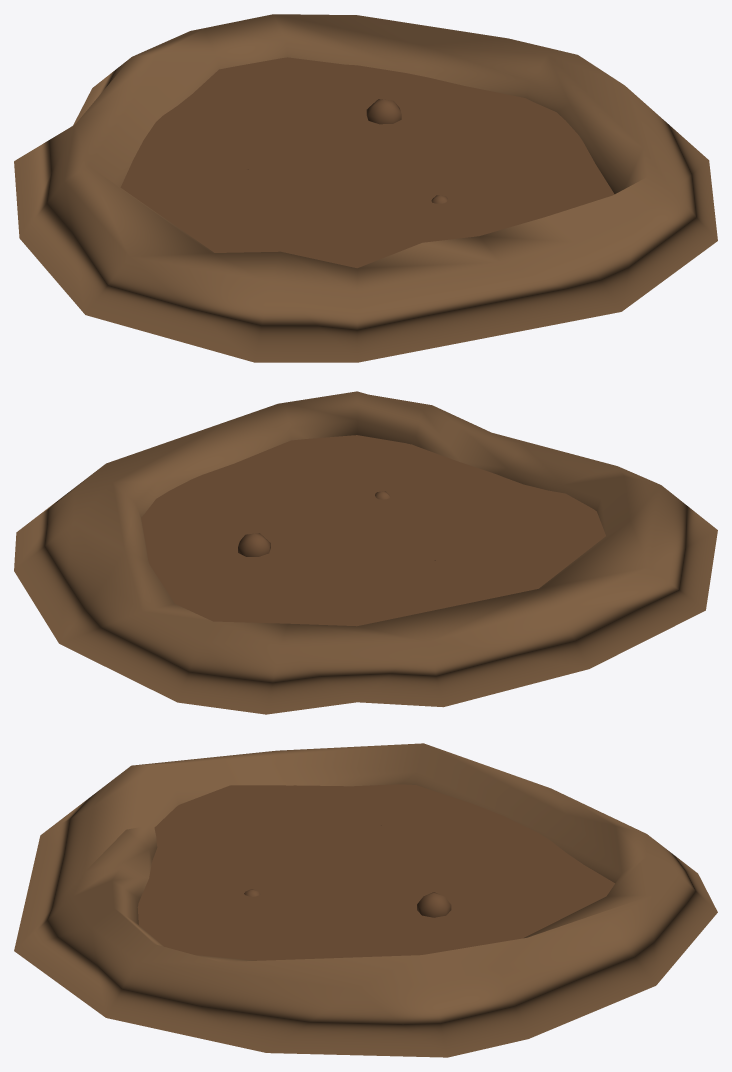
The model's file is mud-pool-pixor_lod1.glb.
3 renders of one model, top to bottom at view 1: azimuth 30°, elevation 25°; view 2: azimuth 150°, elevation 25°; view 3: azimuth 270°, elevation 25°, orthographic. The views are drawn at different scales.
Parts seen in each view (by area): view 1: Mud rim, Mud, Mud bubbles; view 2: Mud rim, Mud, Mud bubbles; view 3: Mud rim, Mud, Mud bubbles.
Boxes of the visible parts, x1,y1,x2,y2 form: Mud rim: [14, 14, 717, 362]; Mud: [120, 57, 614, 268]; Mud bubbles: [247, 99, 447, 203]; Mud rim: [14, 391, 717, 714]; Mud: [141, 435, 605, 626]; Mud bubbles: [238, 491, 435, 560]; Mud rim: [14, 743, 717, 1057]; Mud: [137, 784, 614, 960]; Mud bubbles: [244, 825, 451, 917].
Size of the model in its own units: 2.03 by 0.209 by 2.05.
